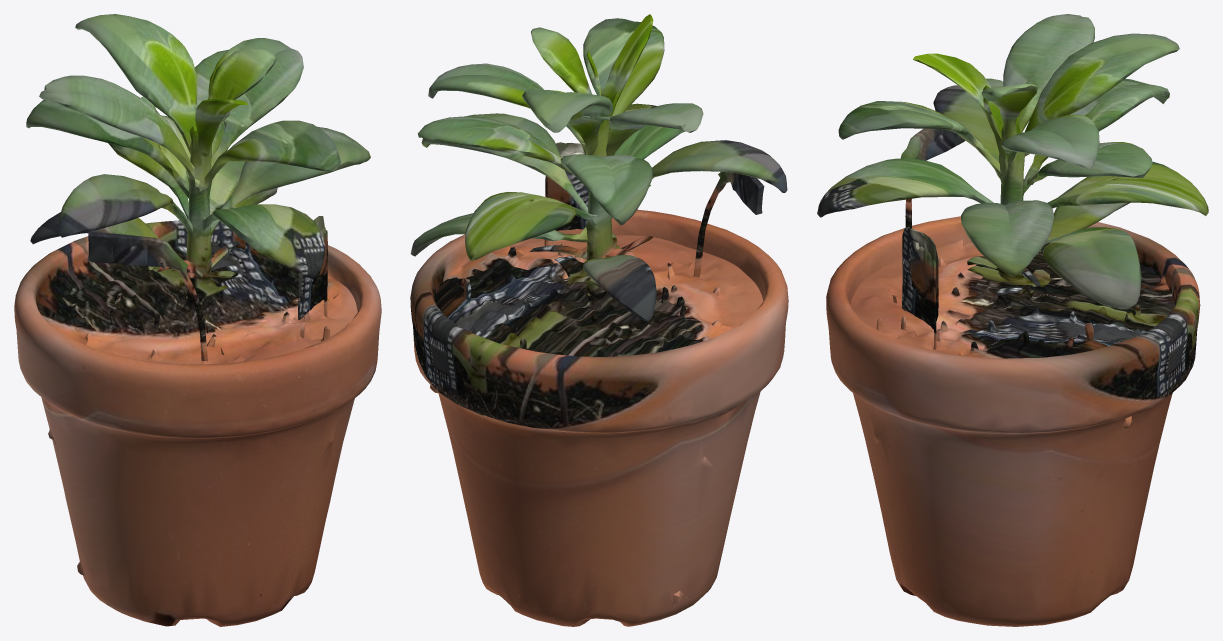
Rendered from vaso-esp32-512.glb.
3 renders of one model, left to right at view 1: azimuth 30°, elevation 25°; view 2: azimuth 150°, elevation 25°; view 3: azimuth 270°, elevation 25°, orthographic. The views are drawn at different scales.
Visible parts, largest first — view 1: vaso-esp32; view 2: vaso-esp32; view 3: vaso-esp32.
Boxes of the visible parts, box(x1,y1,x2,y2) form: vaso-esp32: box(14, 14, 381, 626); vaso-esp32: box(410, 14, 788, 626); vaso-esp32: box(817, 14, 1208, 626).
Bounding box in the file's own units: 0.1841 × 0.28 × 0.1868.
Materials: 1 (1 with a texture image).
